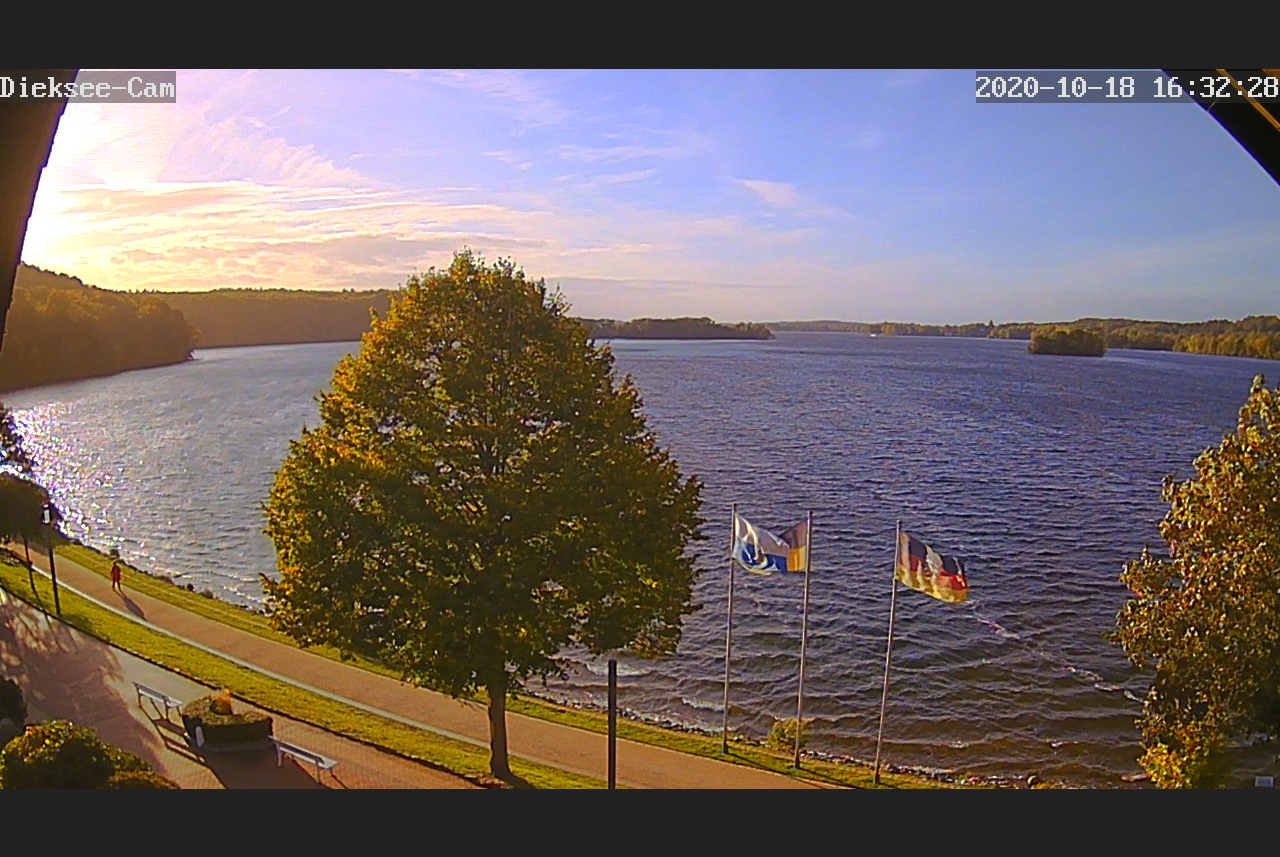yes: (887, 517, 976, 612), (722, 505, 794, 583), (757, 507, 821, 574)
